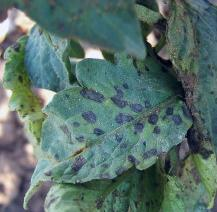Tomato leaf bacterial spot: (19, 71, 206, 207), (38, 133, 182, 212), (145, 0, 217, 156)
